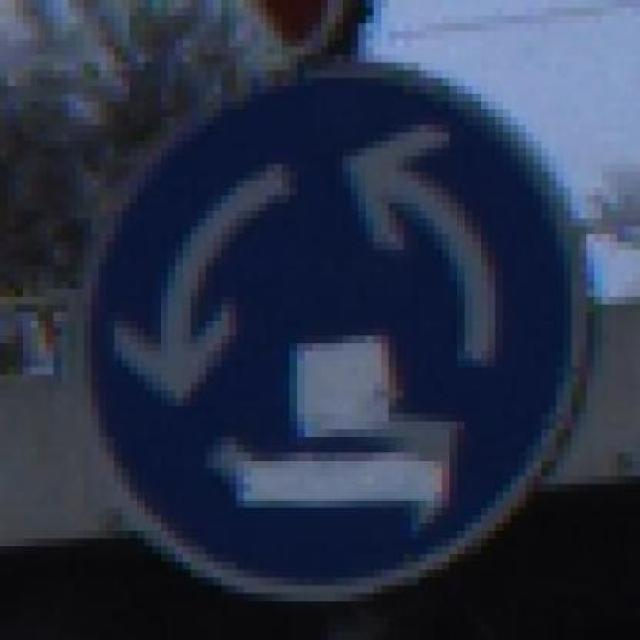Round-About: (76, 46, 610, 609)
